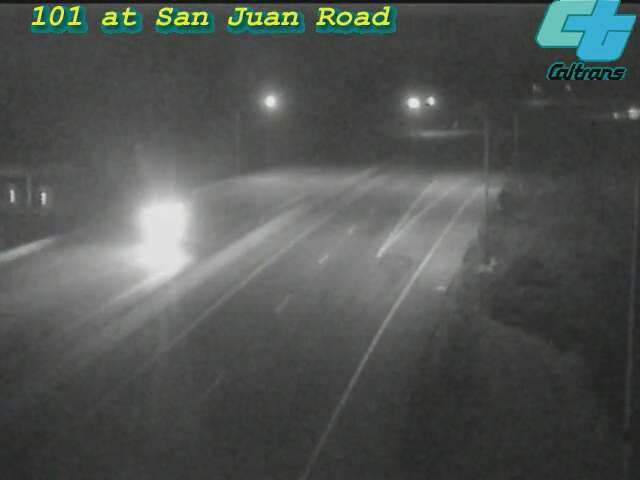vehicle: (112, 189, 192, 269), (608, 88, 640, 138)
